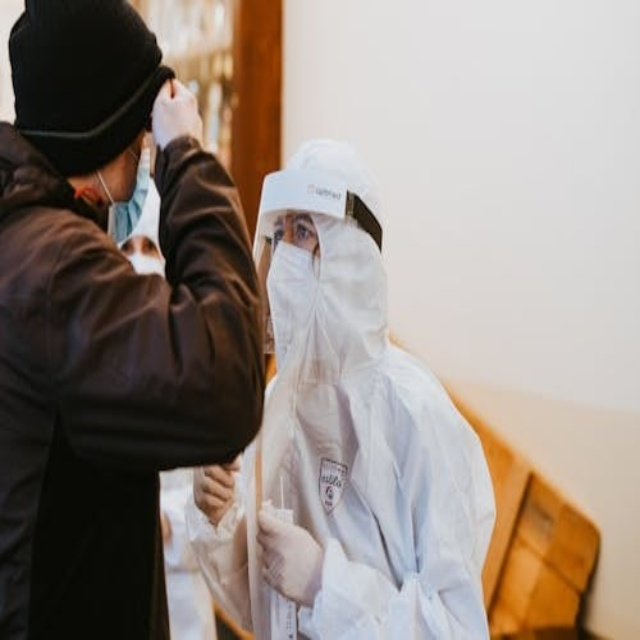Guantes: (255, 500, 328, 603), (184, 454, 251, 523)
Mascara: (262, 238, 319, 363), (100, 144, 152, 246)
Sin_gafas: (271, 211, 317, 246)
Sin_guantes: (150, 71, 210, 154)
